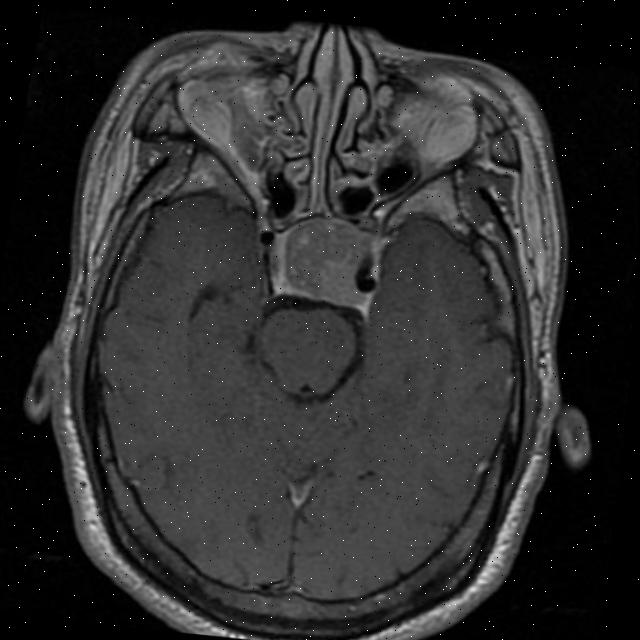Pituitary: (280, 211, 377, 302)
